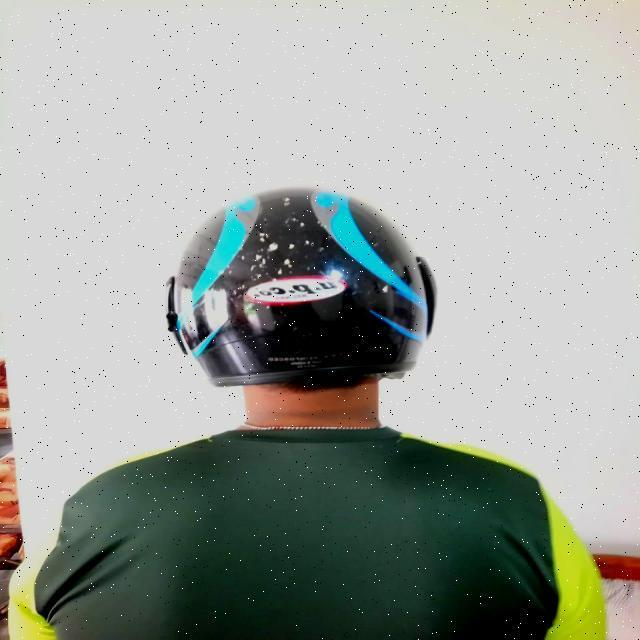helmet: (167, 190, 438, 393)
